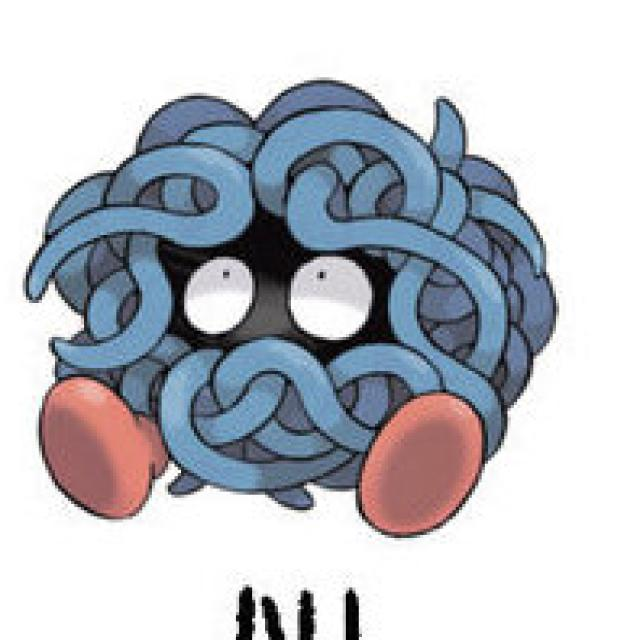Tangela: (39, 77, 496, 533)
